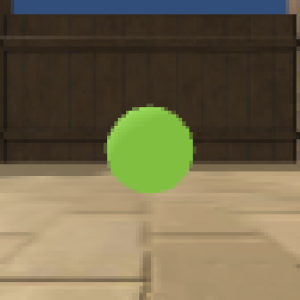goodGoal: (100, 96, 199, 197)
